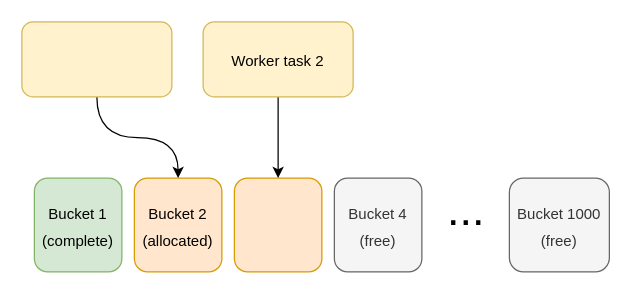
This 631x294 diagram has some shape labels left out. The centre of each missing label's shape, as x and y in pixels:
"Bucket 3 (allocated)" belongs at (277,224).
"Worker task 1" belongs at (96,59).
